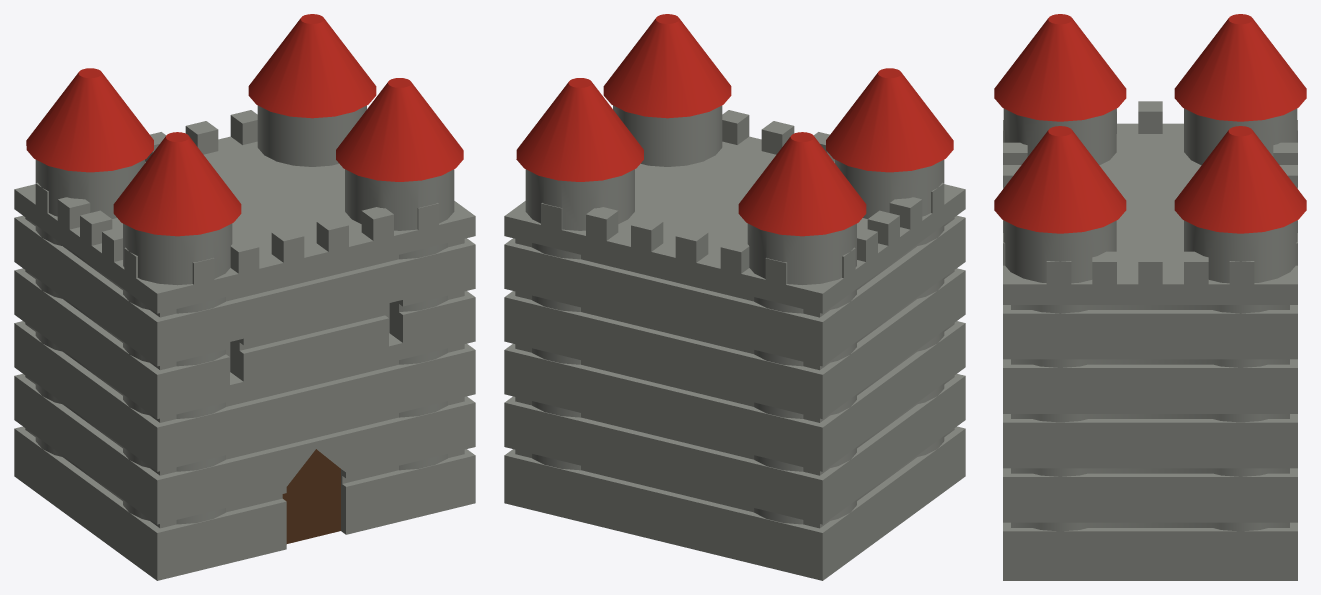
The model's file is burg_rot.glb.
3 renders of one model, left to right at view 1: azimuth 30°, elevation 25°; view 2: azimuth 150°, elevation 25°; view 3: azimuth 270°, elevation 25°, orthographic. The views are drawn at different scales.
Visible parts, largest first — view 1: burg_rot; view 2: burg_rot; view 3: burg_rot.
Part boxes in pixels (x1,y1,x2,y2): burg_rot: (14,14,475,580); burg_rot: (504,14,965,580); burg_rot: (994,14,1306,580).
Size of the model in its own units: 14.6 by 17.18 by 11.43.
